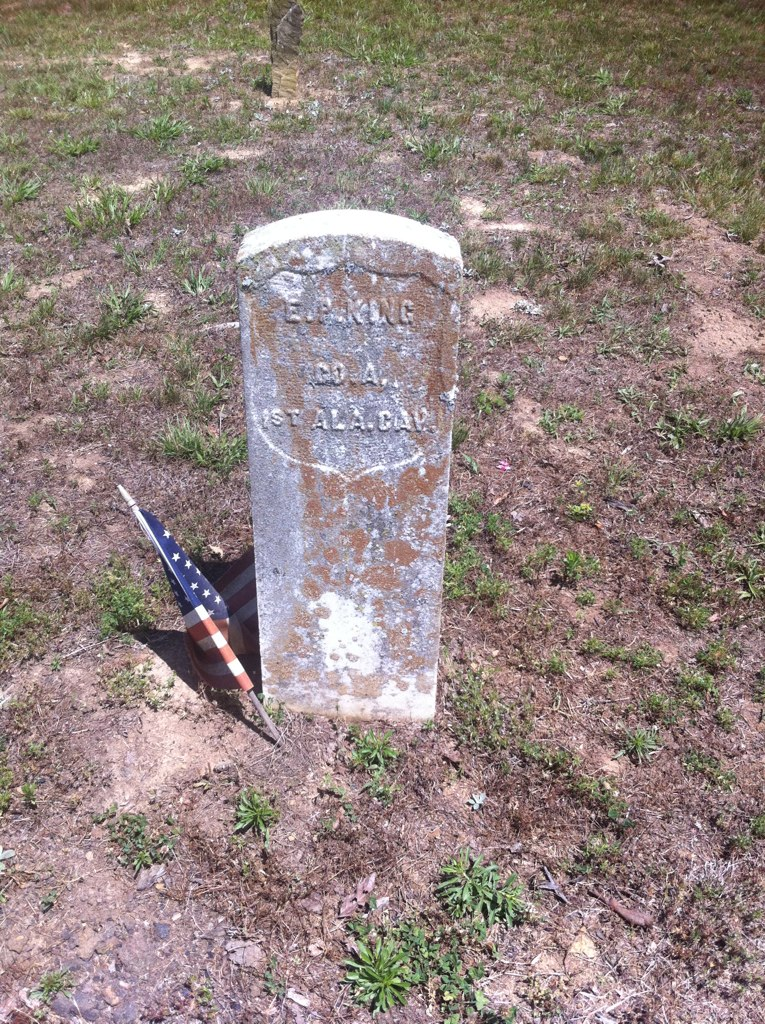upright: (229, 209, 457, 721)
